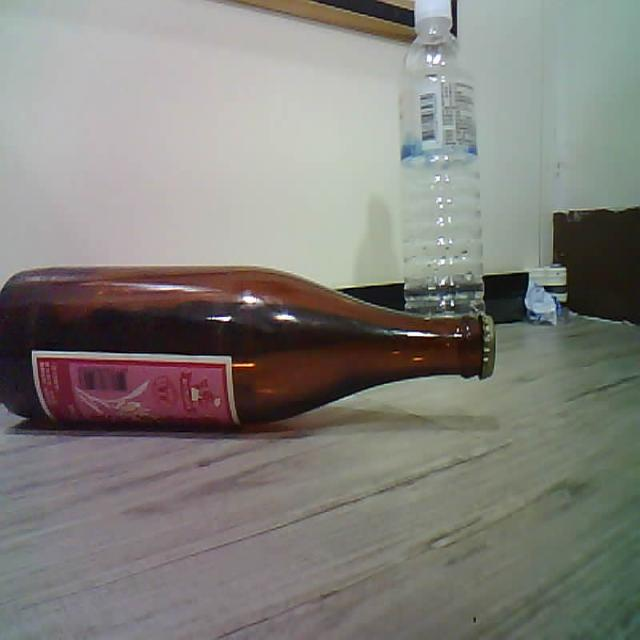bottle: (0, 268, 494, 427), (399, 0, 483, 316)
